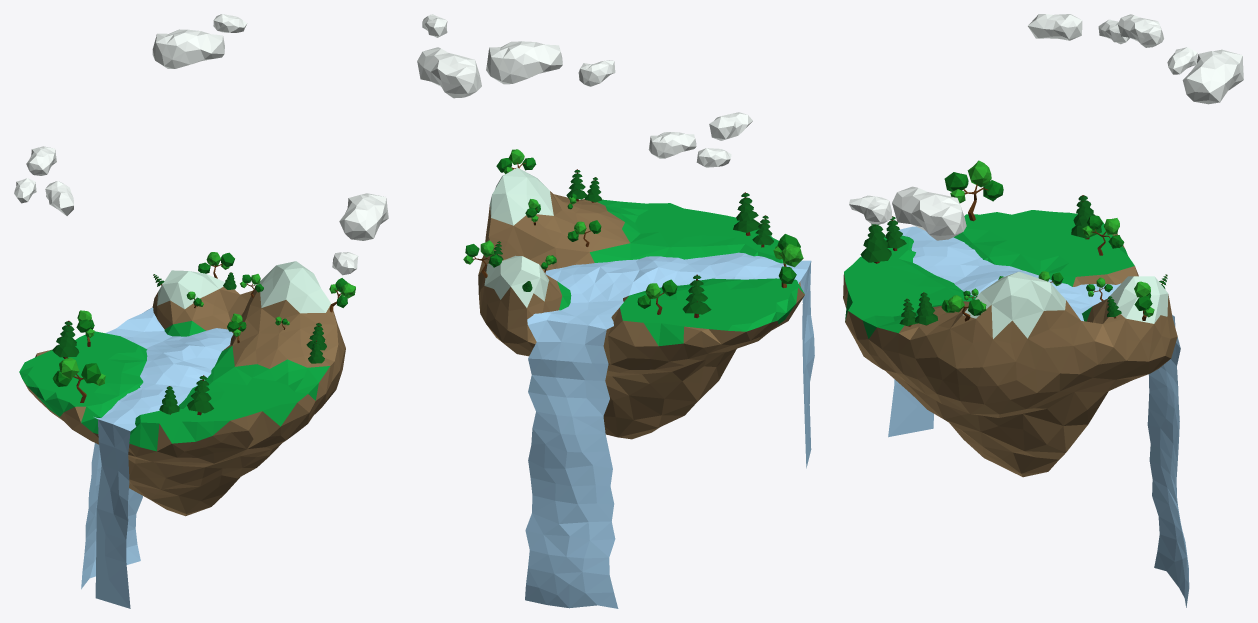
Rendered from RandWater01_Fracture.fbx.
The picture shows the model from 3 angles, left to right: view 1: azimuth 30°, elevation 25°; view 2: azimuth 150°, elevation 25°; view 3: azimuth 270°, elevation 25°; orthographic projection. The views are drawn at different scales.
Parts seen in each view (by area): view 1: RandWater01, Plane, Cloud, Tree. 001.007, Icosphere.002, Icosphere.007, Tree. 001.001, Tree. 001.002; view 2: RandWater01, Plane, Cloud, Tree. 001.007, Icosphere.007, Icosphere.002, Tree. 001.001, Tree. 001, Tree. 001.002; view 3: RandWater01, Plane, Cloud, Tree. 001.007, Icosphere.007, Tree. 001, Icosphere.002, Tree. 001.002.
Boxes of the visible parts, bbox=[...] form: RandWater01: bbox=[19, 261, 345, 516]; Plane: bbox=[81, 307, 233, 608]; Cloud: bbox=[14, 14, 388, 275]; Tree. 001.007: bbox=[52, 357, 105, 402]; Icosphere.002: bbox=[52, 320, 79, 358]; Icosphere.007: bbox=[187, 375, 213, 415]; Tree. 001.001: bbox=[198, 252, 234, 278]; Tree. 001.002: bbox=[329, 278, 355, 312]; RandWater01: bbox=[478, 167, 804, 439]; Plane: bbox=[525, 252, 814, 608]; Cloud: bbox=[417, 14, 752, 167]; Tree. 001.007: bbox=[773, 234, 803, 288]; Icosphere.007: bbox=[733, 192, 760, 235]; Icosphere.002: bbox=[682, 274, 711, 318]; Tree. 001.001: bbox=[463, 240, 501, 277]; Tree. 001: bbox=[637, 279, 677, 314]; Tree. 001.002: bbox=[496, 149, 536, 173]; RandWater01: bbox=[843, 210, 1177, 477]; Plane: bbox=[888, 226, 1189, 607]; Cloud: bbox=[849, 14, 1243, 240]; Tree. 001.007: bbox=[944, 160, 1003, 221]; Icosphere.007: bbox=[860, 224, 891, 263]; Tree. 001: bbox=[1082, 215, 1124, 255]; Icosphere.002: bbox=[1071, 195, 1101, 239]; Tree. 001.002: bbox=[941, 295, 986, 321].
Bounding box in the file's own units: 2867 × 4630 × 2764.
